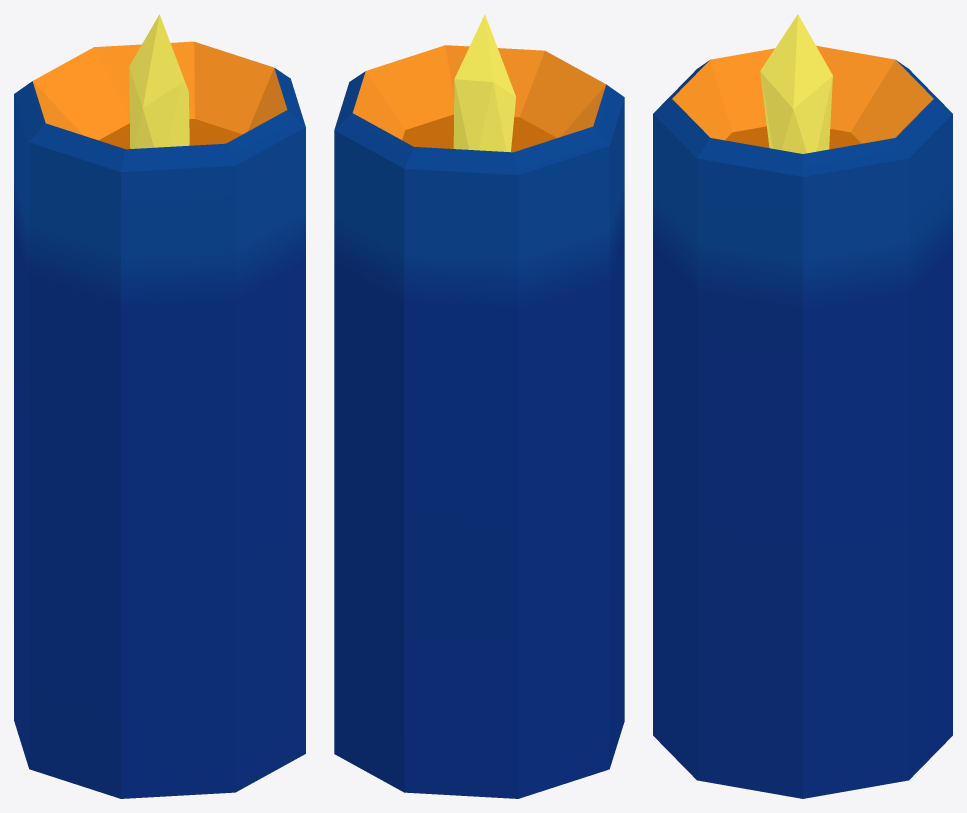
Rendered from vela-006.gltf.
3 renders of one model, left to right at view 1: azimuth 30°, elevation 25°; view 2: azimuth 150°, elevation 25°; view 3: azimuth 270°, elevation 25°, orthographic.
Parts seen in each view (by area): view 1: Vela_Azul-f.006; view 2: Vela_Azul-f.006; view 3: Vela_Azul-f.006.
Part boxes in pixels (x1,y1,x2,y2): Vela_Azul-f.006: (14,14,305,798); Vela_Azul-f.006: (334,14,624,798); Vela_Azul-f.006: (653,14,952,798).
Size of the model in its own units: 0.0971 by 0.2575 by 0.0971.
Materials: 1 (1 with a texture image).
